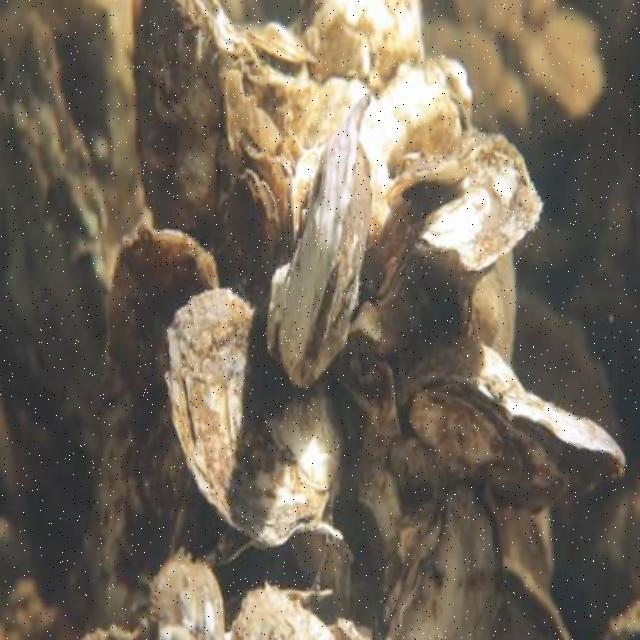Oyster-Closed: (162, 290, 341, 531), (402, 338, 626, 516), (264, 101, 370, 385), (139, 0, 221, 243), (108, 224, 218, 390), (385, 487, 502, 638), (415, 139, 543, 277), (385, 130, 511, 203), (489, 555, 571, 638), (456, 257, 517, 360), (233, 586, 337, 638), (229, 171, 281, 275), (292, 147, 324, 240)
